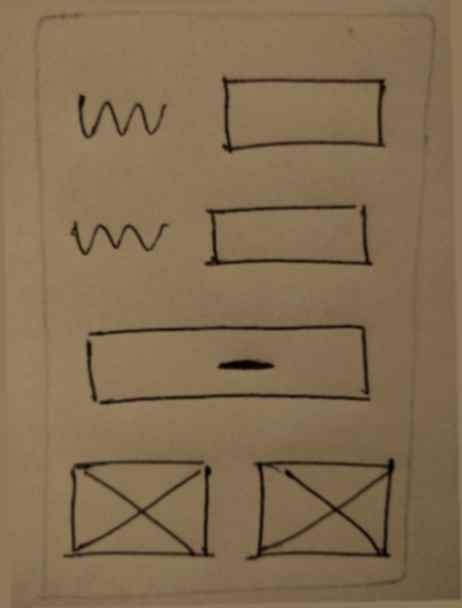button: (71, 313, 385, 420)
image: (60, 450, 220, 567), (245, 449, 398, 568)
text: (67, 83, 179, 148), (63, 207, 172, 268)
text_input: (212, 66, 392, 159), (197, 192, 382, 281)
